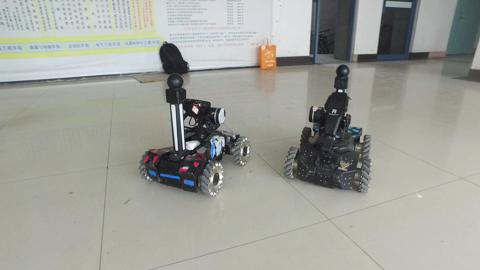chariot: (135, 68, 253, 206), (280, 55, 378, 198)
